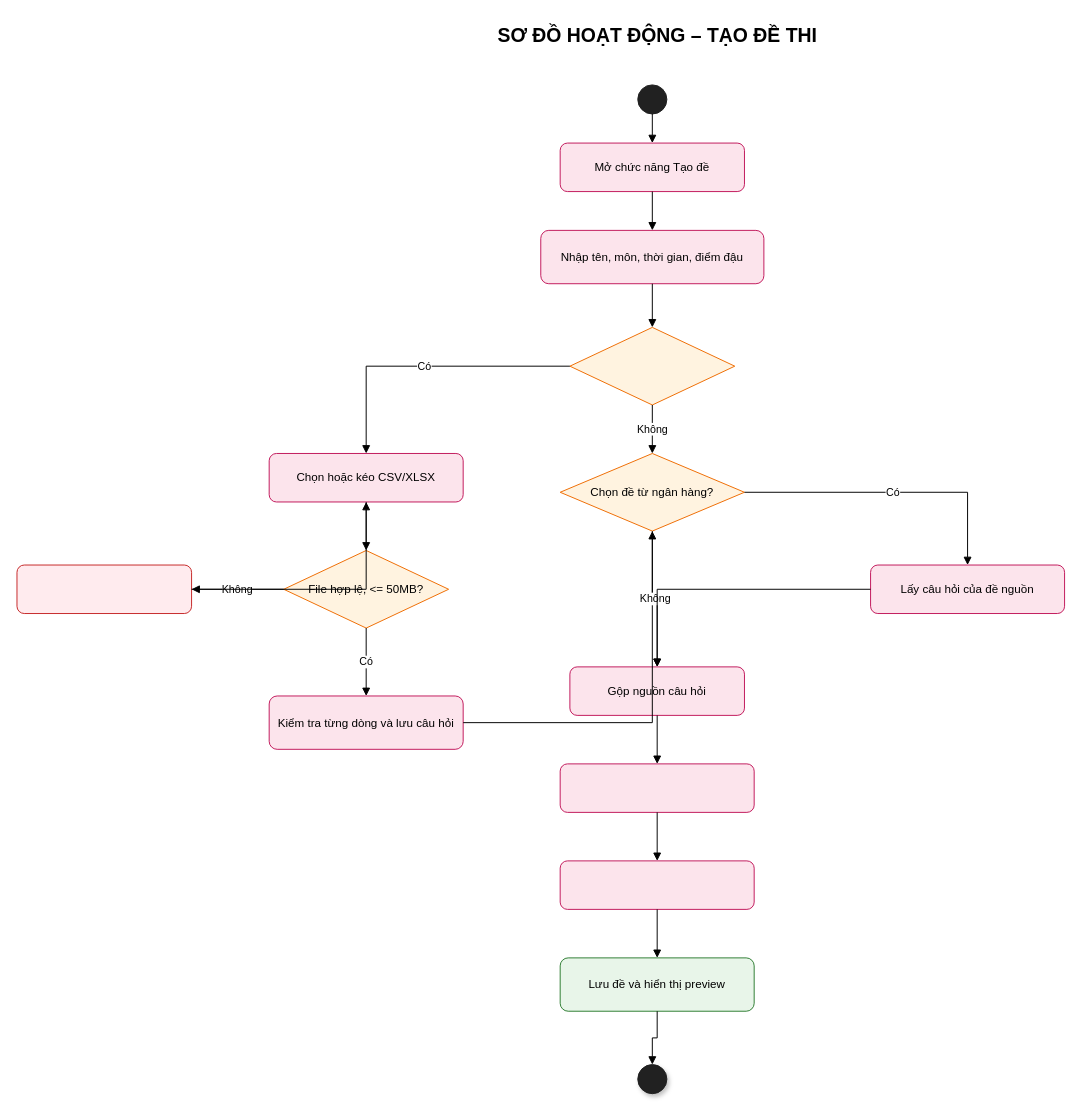
The diagram is 1082 pixels wide and 1117 high, and some of its shapes have lost their labels. The centre of each missing label's shape, as x and y in pixels:
"Có file câu hỏi?" belongs at point 652,365.
"Cấu hình xáo câu / đáp án" belongs at point 656,787.
"Giao lớp hoặc công khai" belongs at point 656,884.
"Thông báo lỗi file" belongs at point 104,589.
